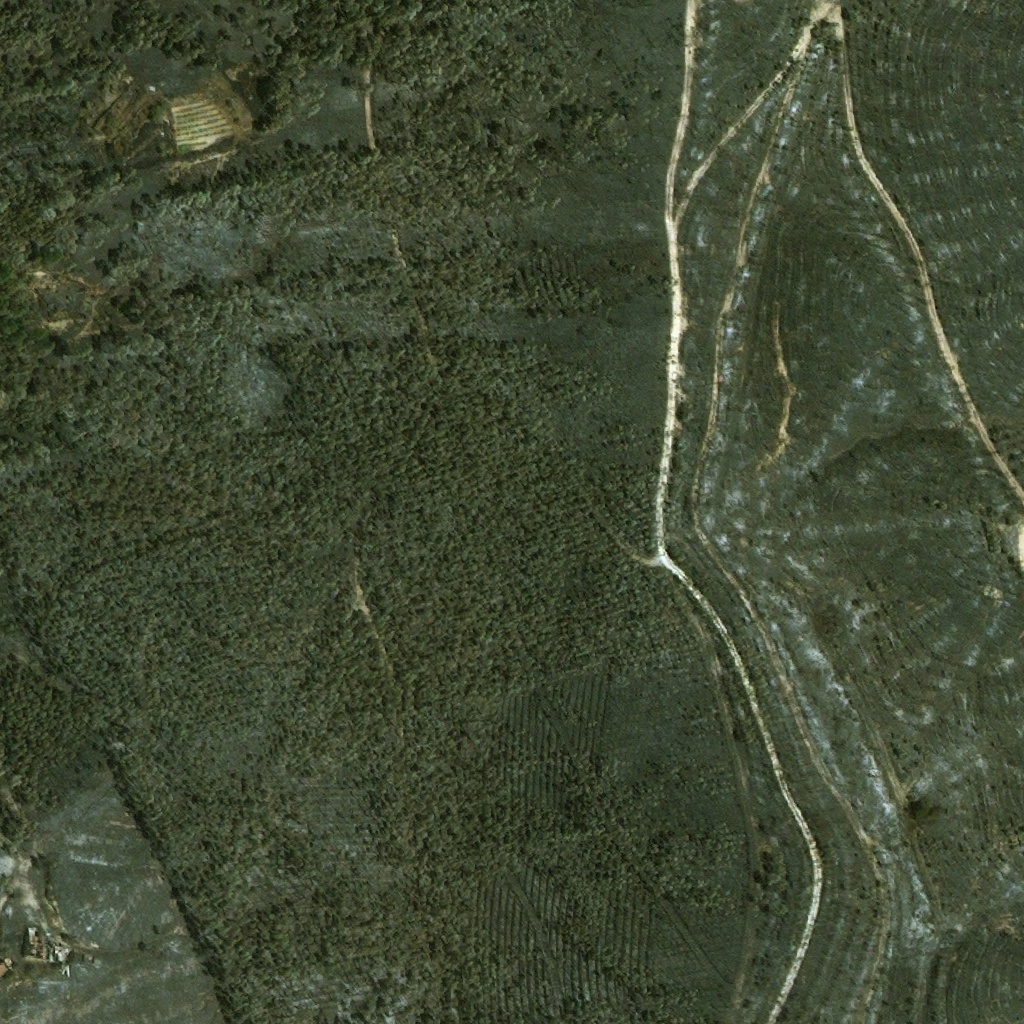3 destroyed: (23, 927, 75, 965), (0, 956, 18, 977)
